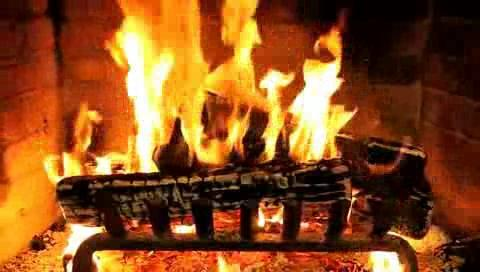smoke: (107, 0, 353, 169)
